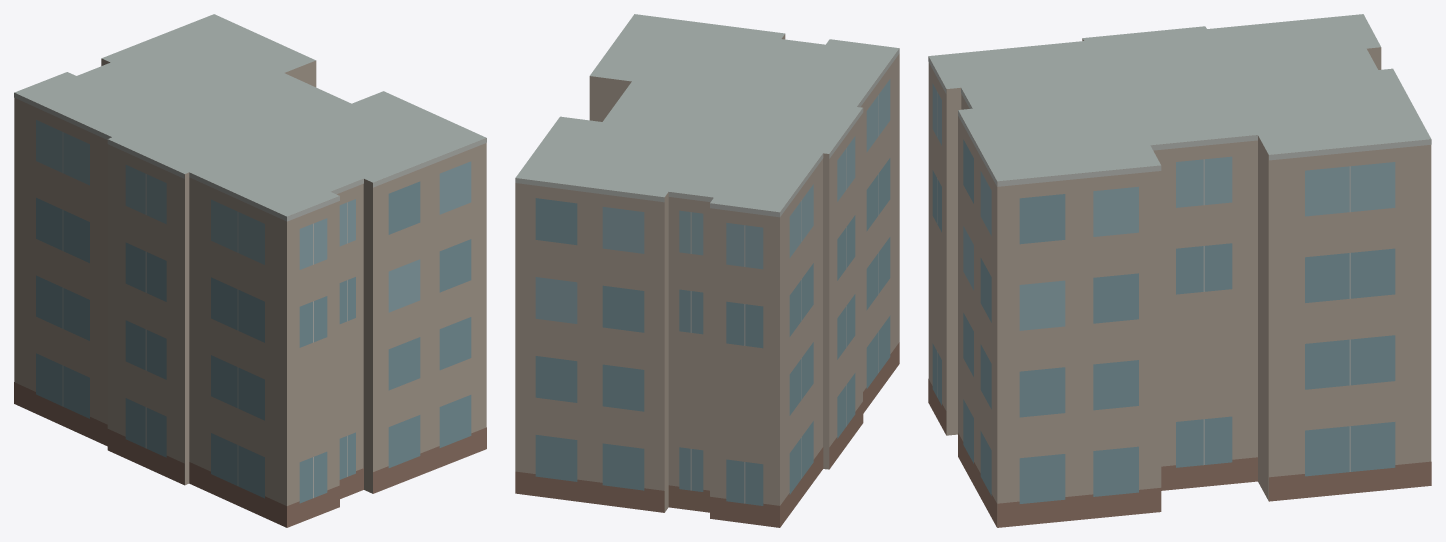
Rendered from survey-upis-32813361.glb.
The picture shows the model from 3 angles, left to right: view 1: azimuth 30°, elevation 25°; view 2: azimuth 150°, elevation 25°; view 3: azimuth 270°, elevation 25°; orthographic projection. The views are drawn at different scales.
Parts seen in each view (by area): view 1: survey-upis-32813361.tmp; view 2: survey-upis-32813361.tmp; view 3: survey-upis-32813361.tmp.
Part boxes in pixels (bbox=[...]): survey-upis-32813361.tmp: bbox=[14, 14, 486, 527]; survey-upis-32813361.tmp: bbox=[515, 14, 899, 527]; survey-upis-32813361.tmp: bbox=[928, 14, 1431, 527].
Bounding box in the file's own units: 15.86 × 15.3 × 20.14.
